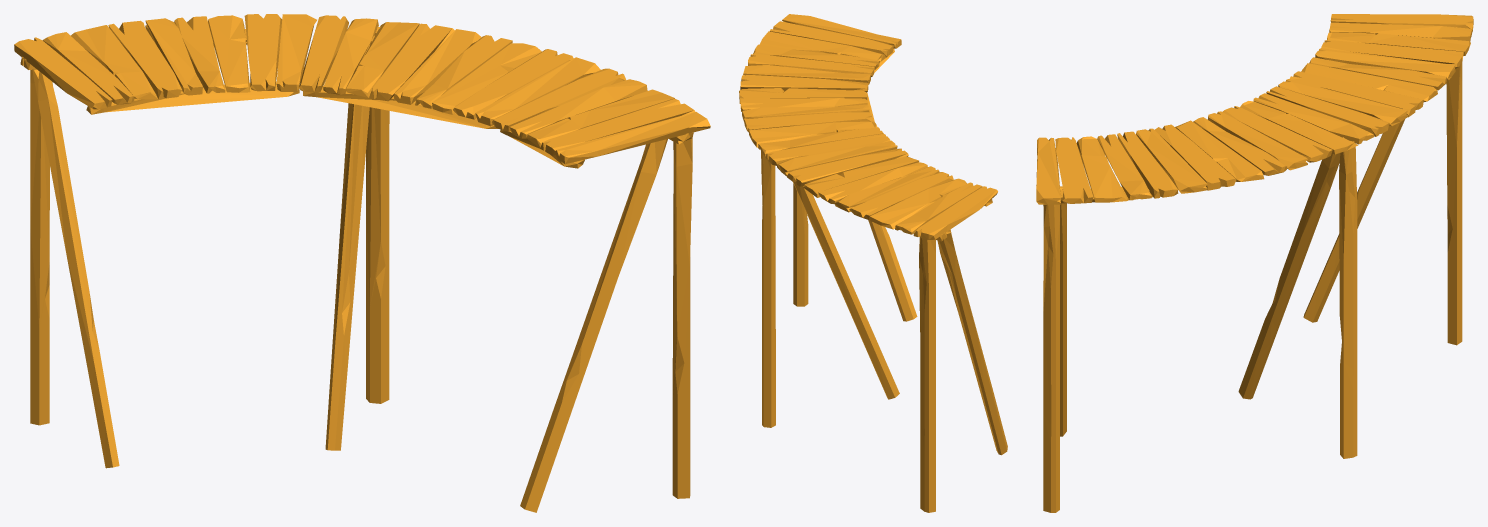
File: SM_Palisade_Gallery_Corner_Round_3x3_Concave_A.fbx
The picture shows the model from 3 angles, left to right: view 1: azimuth 30°, elevation 25°; view 2: azimuth 150°, elevation 25°; view 3: azimuth 270°, elevation 25°; orthographic projection. The views are drawn at different scales.
Visible parts, largest first — view 1: palisade-gallery-corner-round-3x3-concave-a; view 2: palisade-gallery-corner-round-3x3-concave-a; view 3: palisade-gallery-corner-round-3x3-concave-a.
Boxes of the visible parts, x1,y1,x2,y2 form: palisade-gallery-corner-round-3x3-concave-a: (14, 14, 710, 512); palisade-gallery-corner-round-3x3-concave-a: (739, 14, 1007, 512); palisade-gallery-corner-round-3x3-concave-a: (1036, 14, 1473, 512).
Bounding box in the file's own units: 6.02 × 4.84 × 5.99.
